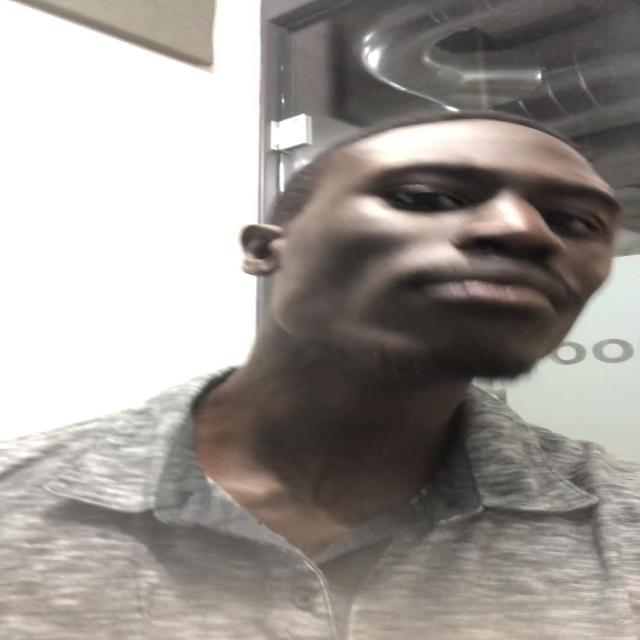face: (280, 143, 618, 377)
